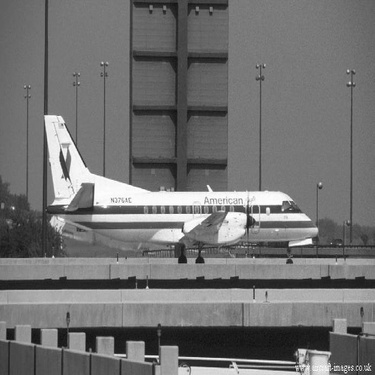airplane: (20, 92, 336, 283)
